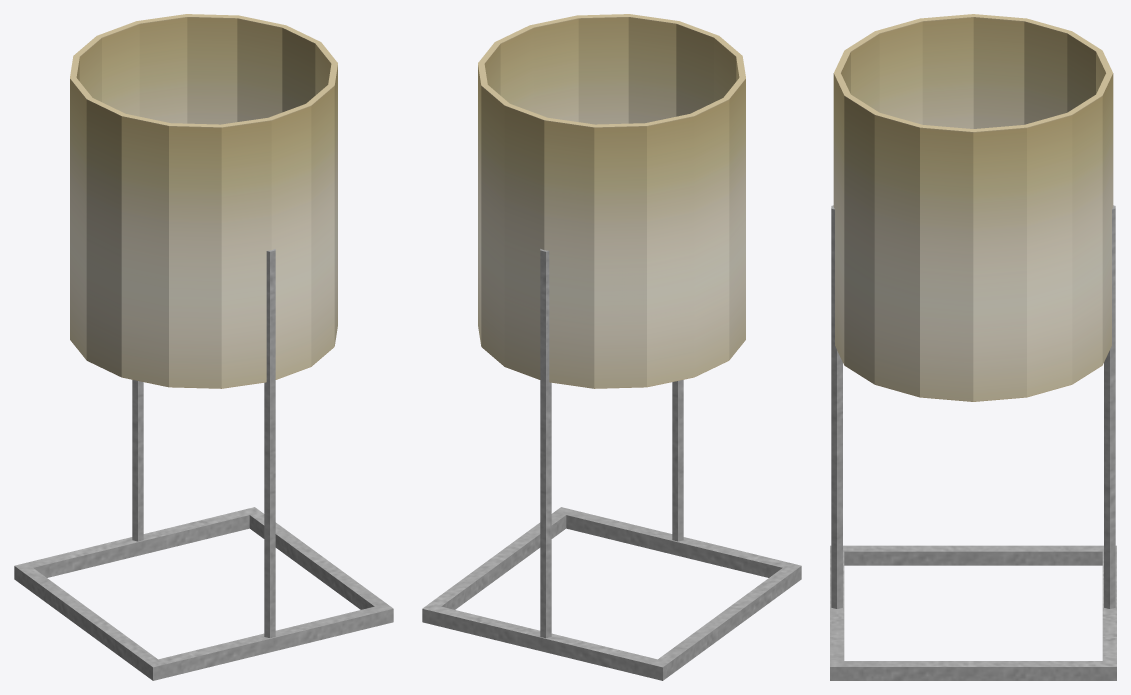
The model's file is Lamp7.fbx.
The picture shows the model from 3 angles, left to right: view 1: azimuth 30°, elevation 25°; view 2: azimuth 150°, elevation 25°; view 3: azimuth 270°, elevation 25°; orthographic projection. The views are drawn at different scales.
Visible parts, largest first — view 1: Empty_Mesh; view 2: Empty_Mesh; view 3: Empty_Mesh.
Part boxes in pixels (x1,y1,x2,y2): Empty_Mesh: [14, 14, 393, 680]; Empty_Mesh: [422, 14, 801, 680]; Empty_Mesh: [830, 14, 1116, 680].
Size of the model in its own units: 31.45 by 66.2 by 31.45.
